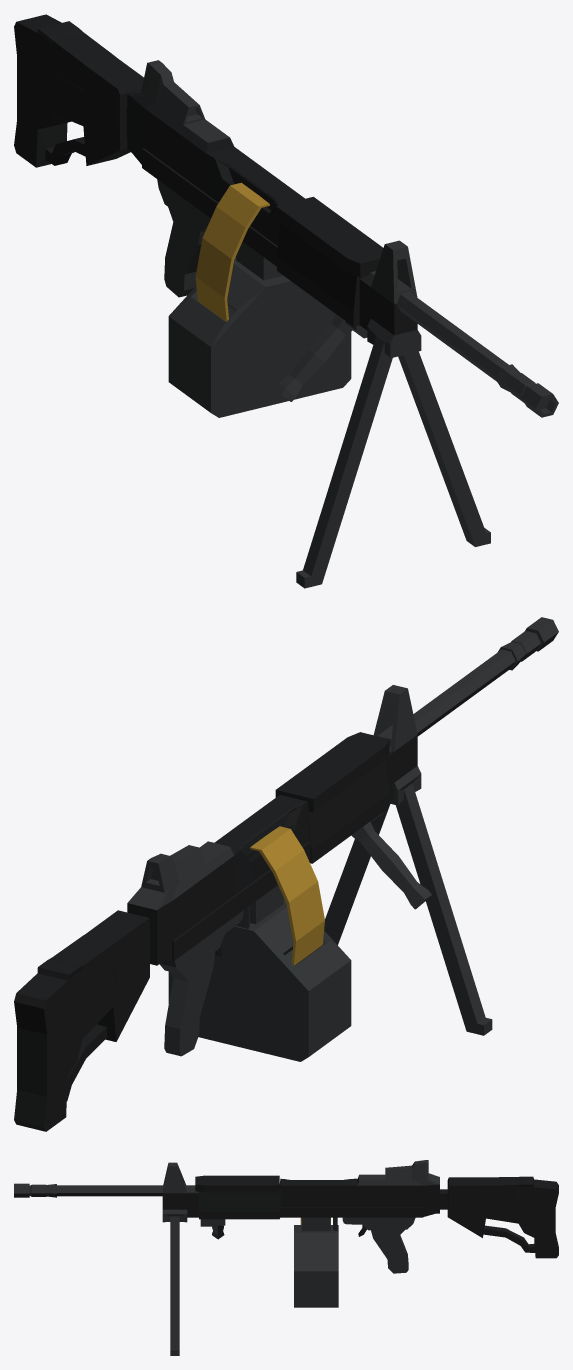
File: Lvl2_AZOV_Gun_Model.fbx
3 renders of one model, top to bottom at view 1: azimuth 30°, elevation 25°; view 2: azimuth 150°, elevation 25°; view 3: azimuth 270°, elevation 25°, orthographic. The views are drawn at different scales.
Visible parts, largest first — view 1: Torus.002; view 2: Torus.002; view 3: Torus.002.
Boxes of the visible parts, x1,y1,x2,y2 form: Torus.002: (14, 14, 558, 588); Torus.002: (14, 617, 558, 1131); Torus.002: (14, 1160, 558, 1355).
Bounding box in the file's own units: 37.72 × 62.81 × 182.
